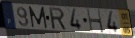4: (69, 7, 83, 33), (106, 10, 120, 35)
9: (16, 7, 29, 28)
H: (86, 9, 105, 34)
M: (28, 5, 49, 29)
R: (48, 7, 68, 31)
